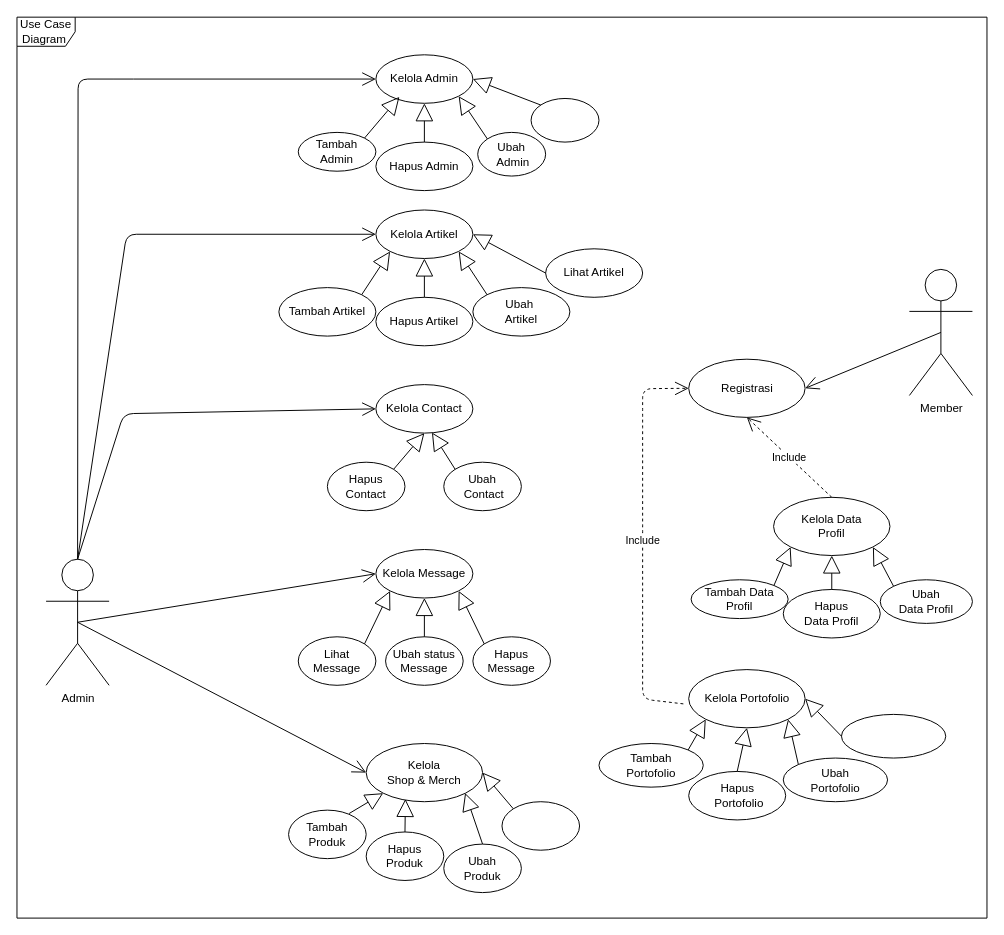
This 1004x935 diagram has some shape labels left out. Each missing label, with the box of its shape:
Lihat Admin: (530, 97, 599, 142)
Lihat Portofolio: (841, 713, 946, 758)
Lihat Produk: (501, 801, 580, 850)
